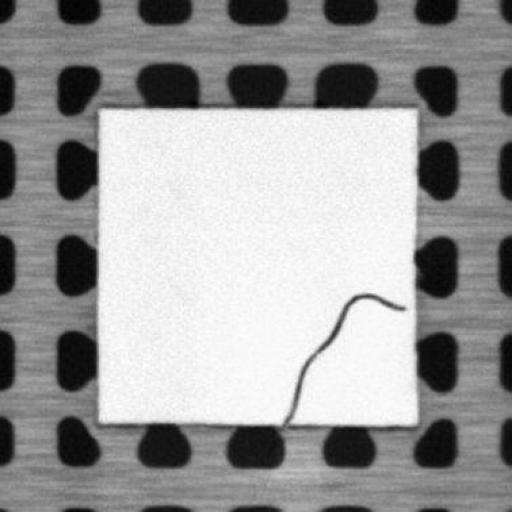DIE_INK: (279, 291, 406, 424)
